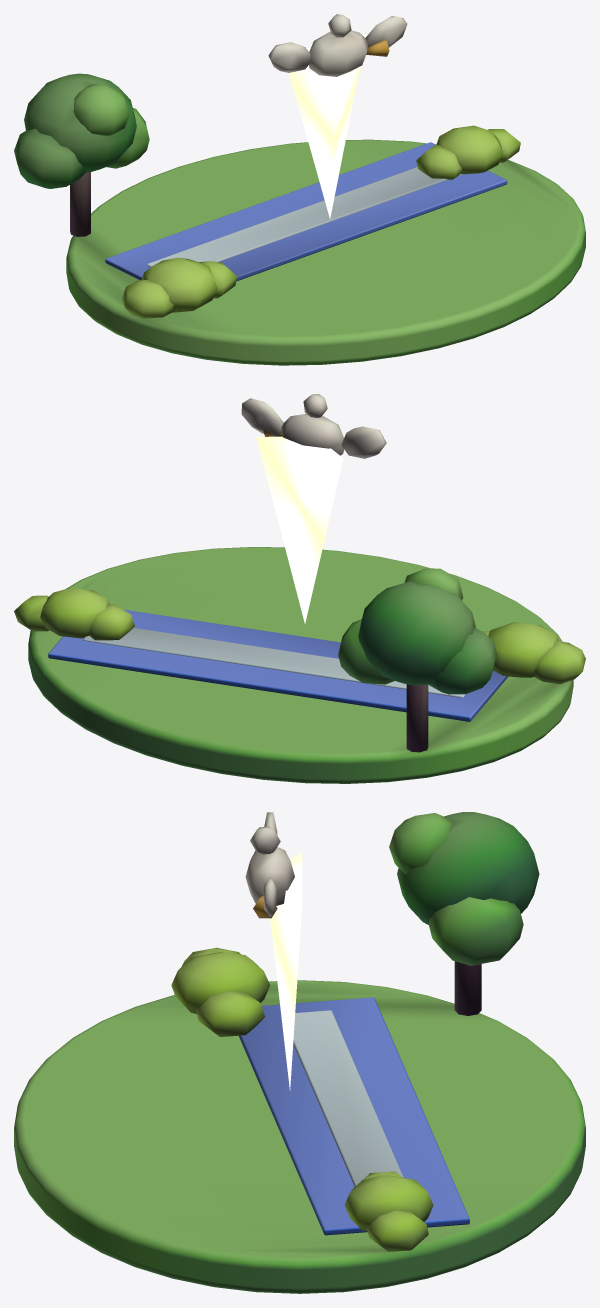
Rendered from baptism.glb.
3 renders of one model, top to bottom at view 1: azimuth 30°, elevation 25°; view 2: azimuth 150°, elevation 25°; view 3: azimuth 270°, elevation 25°, orthographic. The views are drawn at different scales.
Visible parts, largest first — view 1: baptism; view 2: baptism; view 3: baptism.
Part boxes in pixels (bbox=[...]): baptism: bbox=[14, 14, 585, 365]; baptism: bbox=[14, 394, 585, 783]; baptism: bbox=[14, 812, 585, 1293].
Size of the model in its own units: 6.95 by 3.64 by 5.76.
